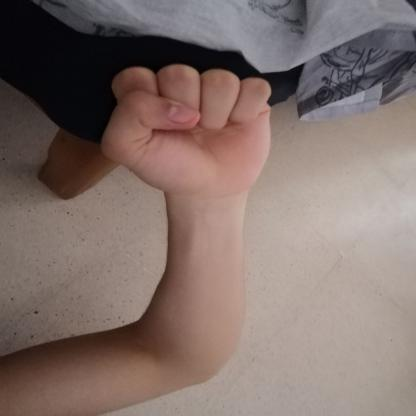SAD: (85, 52, 289, 209)
